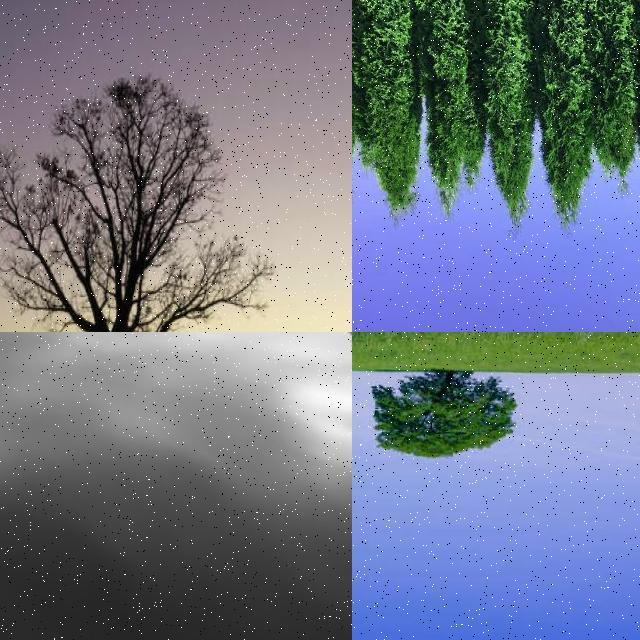tree: (1, 45, 268, 332), (354, 0, 422, 232), (540, 0, 596, 248), (374, 372, 508, 462), (428, 0, 480, 228), (582, 0, 634, 226), (486, 0, 534, 242), (352, 0, 401, 212), (352, 0, 378, 244)
